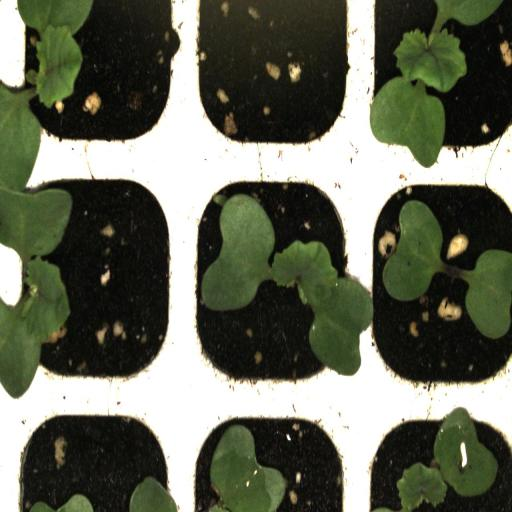noseedling: (185, 2, 360, 160)
seedling: (185, 161, 362, 399), (4, 172, 185, 398), (366, 164, 512, 399), (2, 0, 185, 165), (361, 2, 512, 170)
